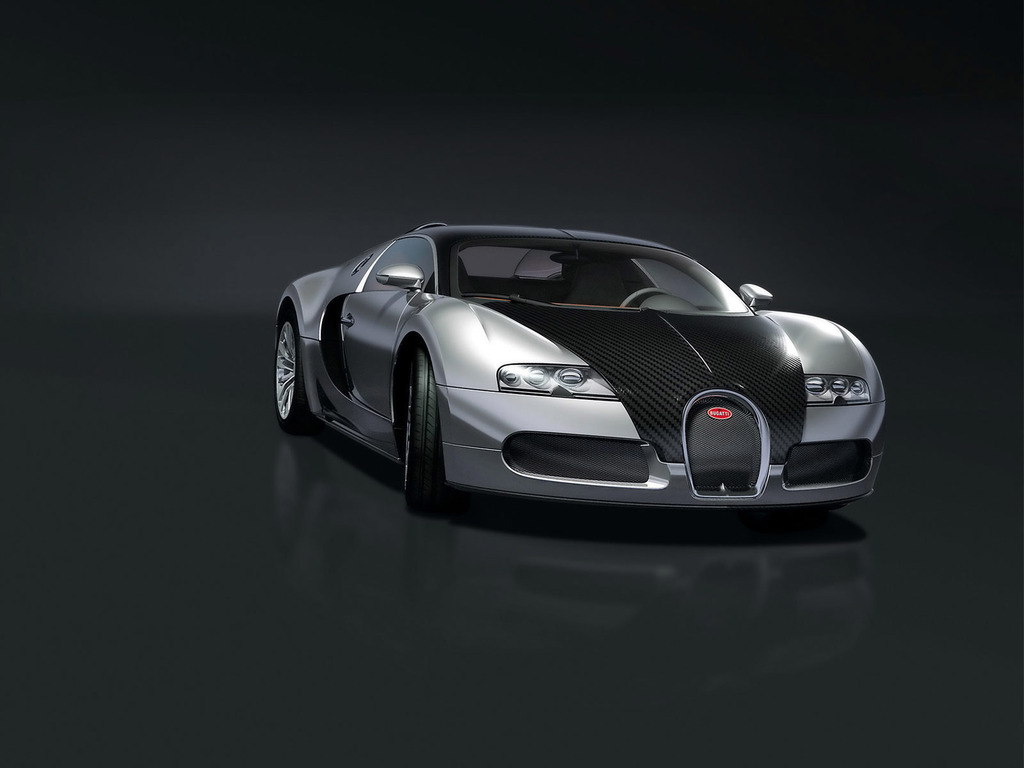Car: (272, 222, 885, 520)
